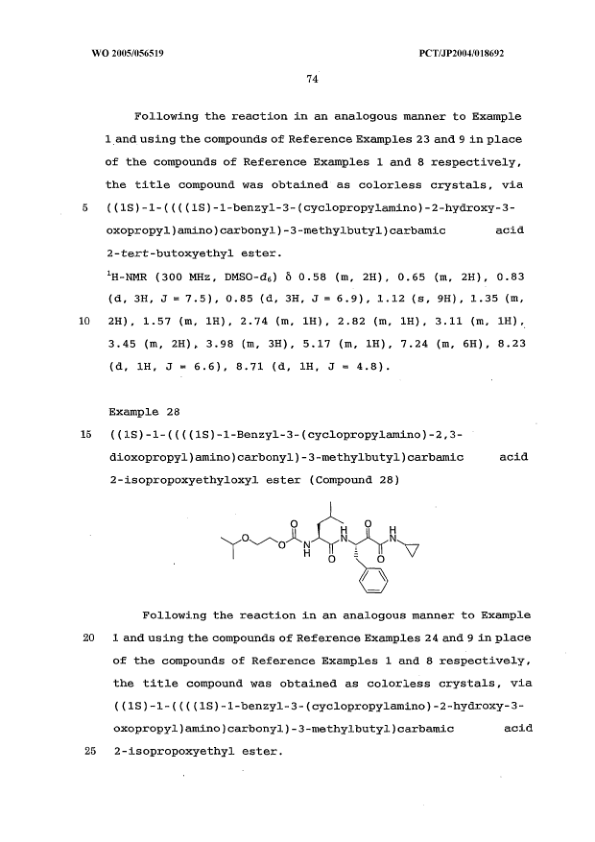compound-structure: (191, 495, 468, 600)
